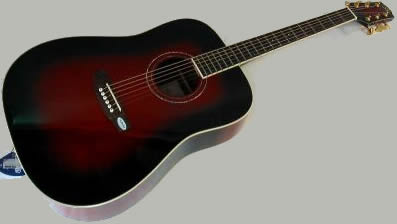guitar: (3, 2, 394, 219)
